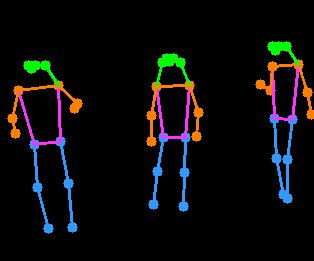normal: (3, 53, 89, 246), (124, 44, 213, 229), (252, 30, 314, 212)
